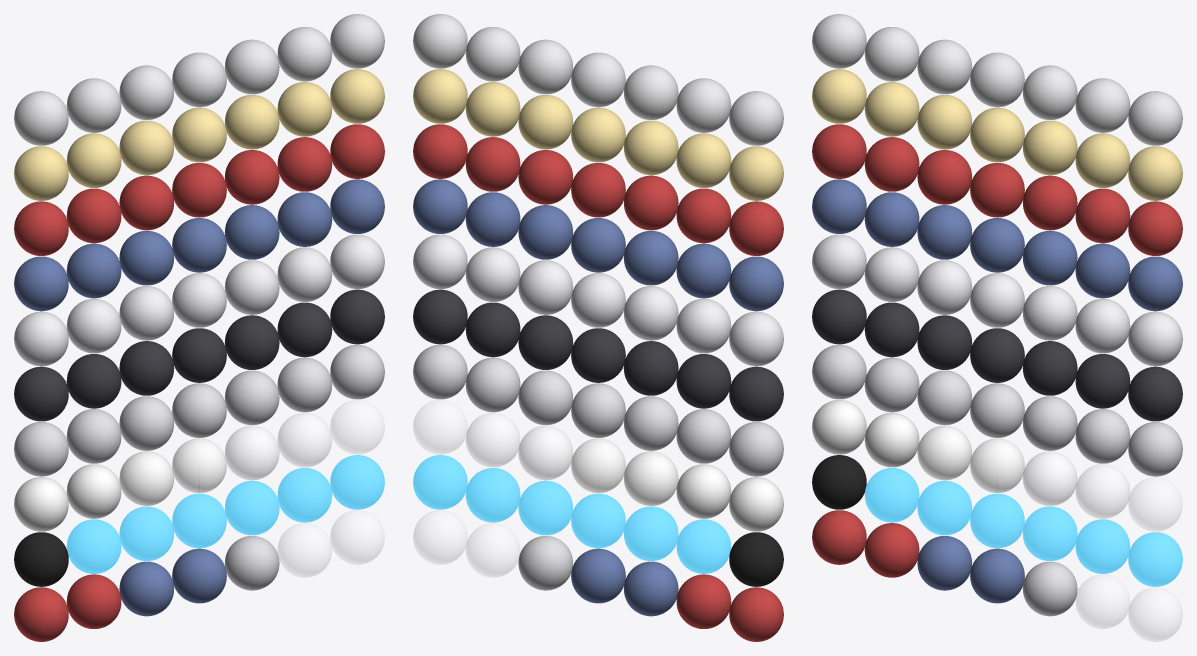
3 renders of one model, left to right at view 1: azimuth 30°, elevation 25°; view 2: azimuth 150°, elevation 25°; view 3: azimuth 330°, elevation 25°, orthographic.
Parts seen in each view (by area): view 1: 04_anisotropy_0.00, 03_sheen_0.00, 05_iridescence_1.00, 03_sheen_0.67, 05_iridescence_0.00, 06_specular_ior_0.00, 06_specular_ior_0.33, 02_clearcoat_0.00, 06_specular_ior_1.00, 00_dielectric_0.17, 02_clearcoat_0.50, 02_clearcoat_0.83 (+58 smaller); view 2: 04_anisotropy_0.00, 03_sheen_0.00, 05_iridescence_1.00, 03_sheen_0.67, 05_iridescence_0.00, 06_specular_ior_0.00, 06_specular_ior_0.33, 02_clearcoat_0.00, 06_specular_ior_1.00, 00_dielectric_0.17, 02_clearcoat_0.50, 02_clearcoat_0.83 (+58 smaller); view 3: 04_anisotropy_1.00, 03_sheen_1.00, 05_iridescence_0.00, 03_sheen_0.33, 05_iridescence_1.00, 06_specular_ior_0.67, 06_specular_ior_1.00, 02_clearcoat_1.00, 06_specular_ior_0.00, 00_dielectric_0.83, 02_clearcoat_0.17, 02_clearcoat_0.50 (+58 smaller).
Part boxes in pixels (x1,y1,x2,y2): 04_anisotropy_0.00: (14, 311, 68, 366); 03_sheen_0.00: (14, 256, 68, 311); 05_iridescence_1.00: (330, 289, 384, 344); 03_sheen_0.67: (224, 205, 279, 259); 05_iridescence_0.00: (14, 366, 68, 421); 06_specular_ior_0.00: (14, 422, 68, 476); 06_specular_ior_0.33: (119, 396, 174, 450); 02_clearcoat_0.00: (14, 201, 68, 255); 06_specular_ior_1.00: (330, 344, 384, 399); 00_dielectric_0.17: (66, 78, 121, 132); 02_clearcoat_0.50: (172, 163, 226, 217); 02_clearcoat_0.83: (277, 137, 332, 191); 04_anisotropy_0.00: (729, 311, 783, 366); 03_sheen_0.00: (729, 256, 783, 311); 05_iridescence_1.00: (413, 289, 467, 344); 03_sheen_0.67: (518, 205, 573, 259); 05_iridescence_0.00: (729, 366, 783, 421); 06_specular_ior_0.00: (729, 422, 783, 476); 06_specular_ior_0.33: (623, 396, 678, 450); 02_clearcoat_0.00: (729, 201, 783, 255); 06_specular_ior_1.00: (413, 344, 467, 399); 00_dielectric_0.17: (676, 78, 731, 132); 02_clearcoat_0.50: (571, 163, 625, 217); 02_clearcoat_0.83: (465, 137, 520, 191); 04_anisotropy_1.00: (1128, 311, 1182, 366); 03_sheen_1.00: (1128, 256, 1182, 311); 05_iridescence_0.00: (812, 289, 866, 344); 03_sheen_0.33: (917, 205, 972, 259); 05_iridescence_1.00: (1128, 366, 1182, 421); 06_specular_ior_0.67: (1022, 396, 1077, 450); 06_specular_ior_1.00: (1128, 422, 1182, 476); 02_clearcoat_1.00: (1128, 201, 1182, 255); 06_specular_ior_0.00: (812, 344, 866, 399); 00_dielectric_0.83: (1075, 78, 1130, 132); 02_clearcoat_0.17: (864, 137, 919, 191); 02_clearcoat_0.50: (970, 163, 1024, 217).
Size of the model in its own units: 6.9 by 9.9 by 0.9.
